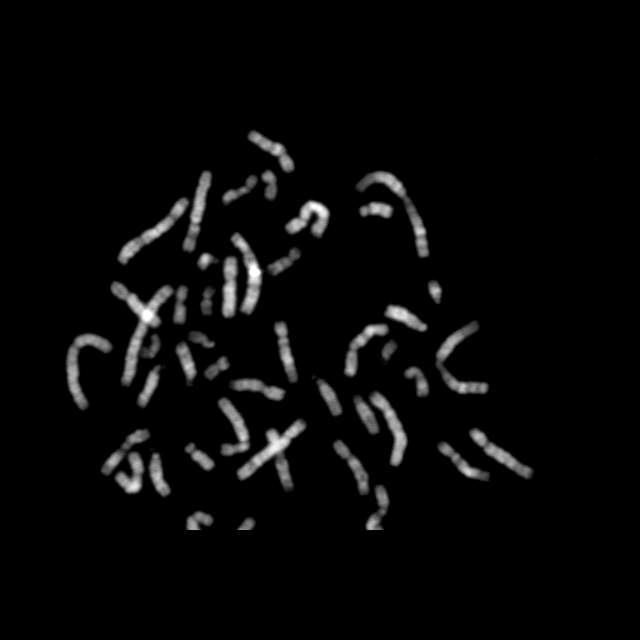chromosome: (355, 172, 429, 258), (113, 197, 189, 265), (122, 286, 172, 386), (236, 420, 304, 480), (436, 322, 488, 394), (66, 332, 110, 408), (469, 428, 531, 478), (370, 392, 408, 464), (230, 232, 262, 314), (101, 427, 149, 479), (109, 283, 161, 329), (183, 170, 212, 252), (342, 324, 388, 374), (333, 441, 369, 499), (438, 442, 490, 482), (246, 131, 294, 171), (218, 398, 250, 456), (286, 200, 330, 240), (267, 427, 293, 489), (276, 322, 298, 382), (384, 305, 426, 333), (232, 377, 284, 399), (366, 484, 390, 530), (135, 364, 161, 406), (221, 175, 257, 205), (115, 452, 142, 492), (269, 247, 301, 279), (314, 379, 342, 415), (352, 398, 380, 434), (150, 453, 172, 497), (174, 343, 196, 383), (222, 256, 236, 318), (185, 442, 212, 470), (403, 367, 429, 395), (170, 288, 190, 324), (205, 354, 229, 381), (185, 509, 213, 529), (359, 202, 391, 218), (260, 172, 278, 200), (198, 253, 220, 273), (189, 331, 215, 347), (428, 278, 442, 306), (143, 336, 160, 358), (202, 286, 212, 318), (382, 340, 398, 360), (237, 518, 256, 530)
